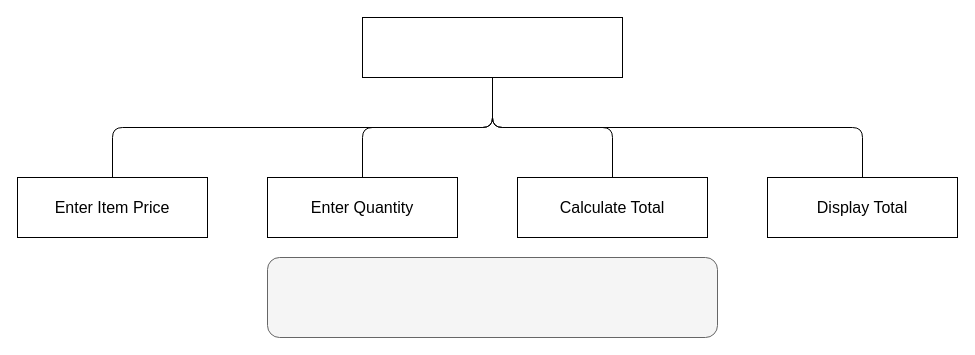
Some shapes in this 975 by 355 pixel diagram are drawn without their labels. Each missing label, with the centre of its shape:
Calculate Total Cost: point 492,47
Read the sub-tasks from left to right. Each task happens once, in order.: point 492,297
